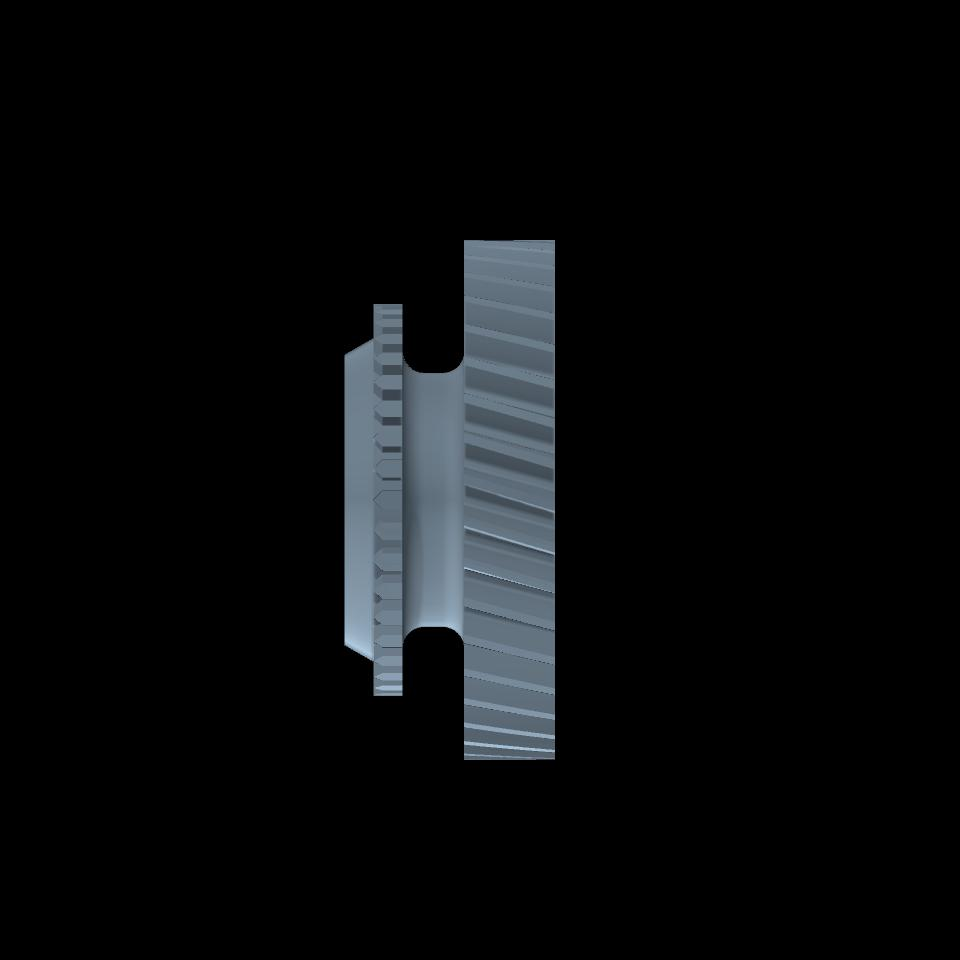Helical: (464, 238, 554, 760)
Straight: (380, 303, 402, 696)
